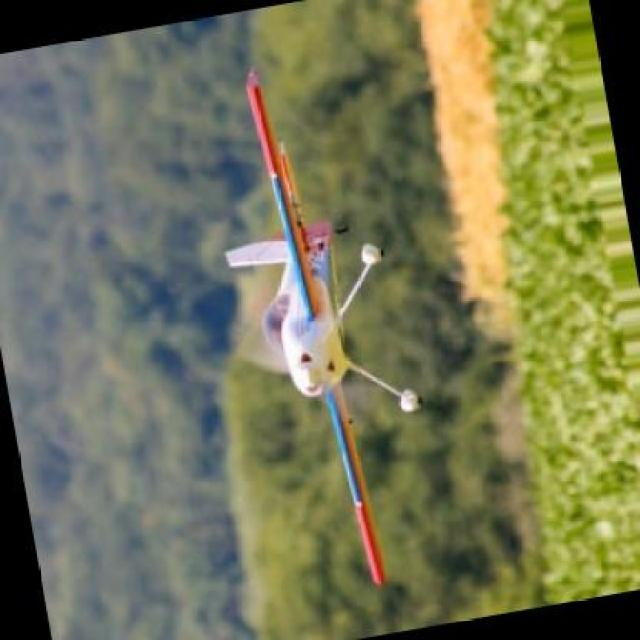iha: (210, 67, 418, 578)
